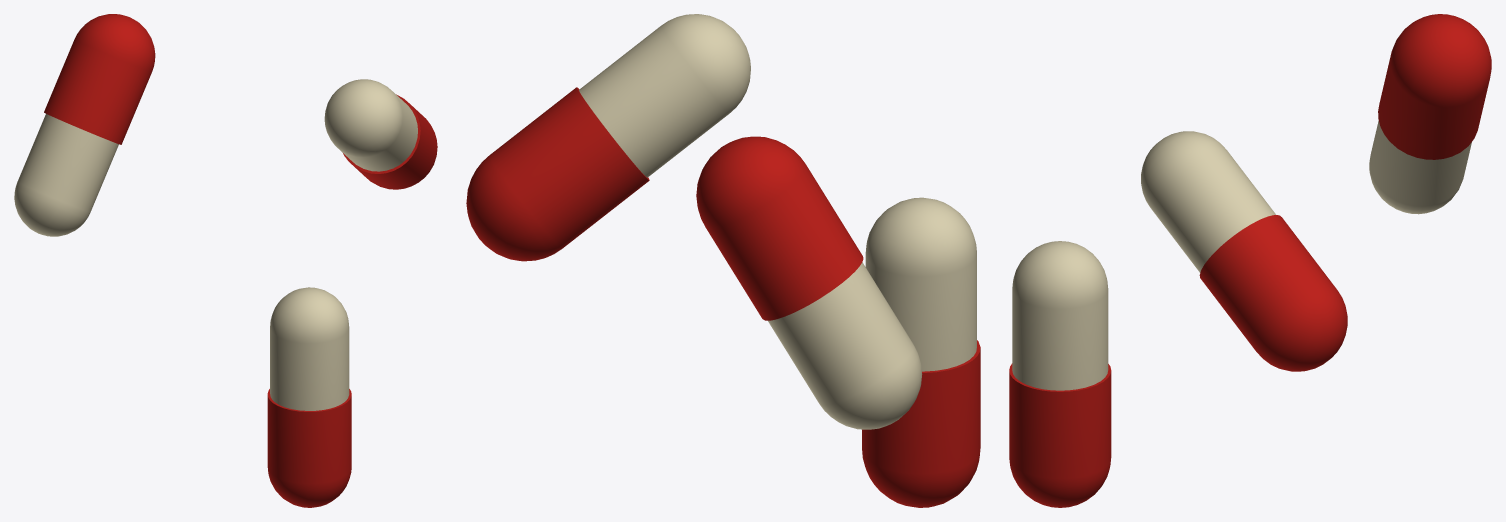
The model's file is objects_pills.glb.
3 views of the same model, side by side, from view 1: azimuth 30°, elevation 25°; view 2: azimuth 150°, elevation 25°; view 3: azimuth 270°, elevation 25° (orthographic). The views are drawn at different scales.
Visible parts, largest first — view 1: Roundcube.003, Roundcube.001, Roundcube.002; view 2: Roundcube.002, Roundcube.003, Roundcube.001; view 3: Roundcube.002, Roundcube.001, Roundcube.003.
Boxes of the visible parts, bbox=[...] form: Roundcube.003: bbox=[14, 14, 155, 236]; Roundcube.001: bbox=[267, 287, 351, 507]; Roundcube.002: bbox=[324, 79, 437, 189]; Roundcube.002: bbox=[466, 14, 750, 261]; Roundcube.003: bbox=[696, 136, 922, 429]; Roundcube.001: bbox=[862, 197, 980, 507]; Roundcube.002: bbox=[1141, 131, 1347, 371]; Roundcube.001: bbox=[1009, 241, 1111, 507]; Roundcube.003: bbox=[1369, 14, 1491, 214].
Size of the model in its own units: 1.54 by 1.54 by 1.46.
